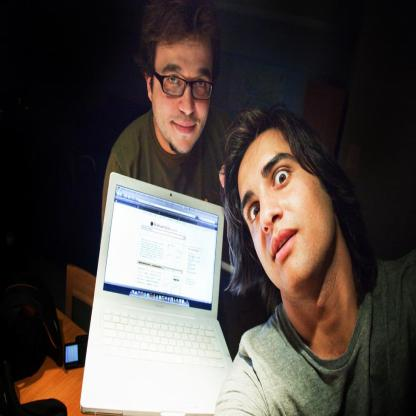board: (82, 169, 244, 413)
